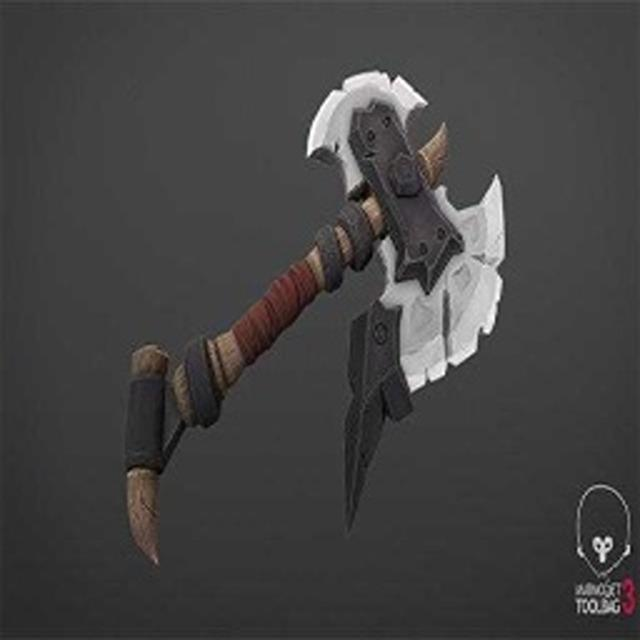ax: (99, 52, 524, 584)
